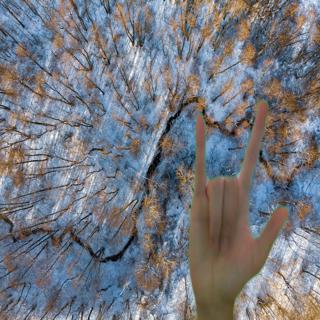ILY: (183, 99, 293, 309)
